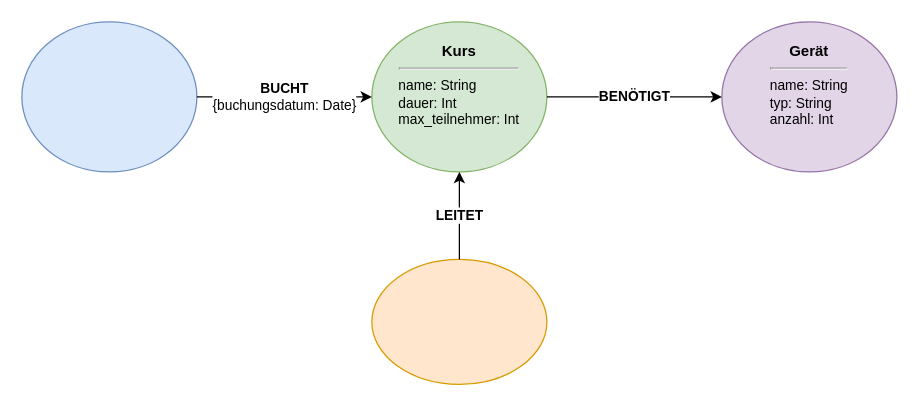
The diagram is 919 pixels wide and 406 high, and some of its shapes have lost their labels. The box of each missing label's shape, as (x1, y1, x2, y2) in pixels:
Mitglied vorname: String nachname: String eintrittsdatum: Date: (21, 21, 197, 172)
Trainer name: String spezialgebiet: String: (371, 258, 547, 384)
